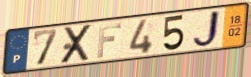4: (128, 17, 155, 56)
5: (162, 14, 185, 52)
7: (32, 27, 59, 68)
F: (95, 22, 123, 59)
J: (190, 8, 222, 49)
X: (59, 22, 95, 66)
